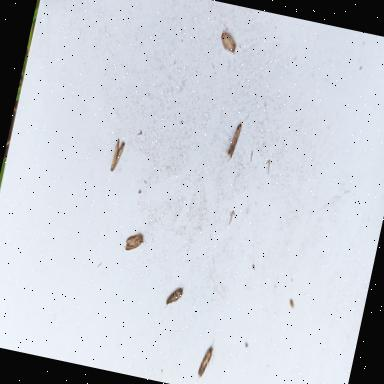pbw: (195, 335, 218, 383), (224, 122, 242, 165), (216, 25, 240, 56), (109, 134, 126, 174), (122, 229, 148, 255), (164, 282, 184, 312)
